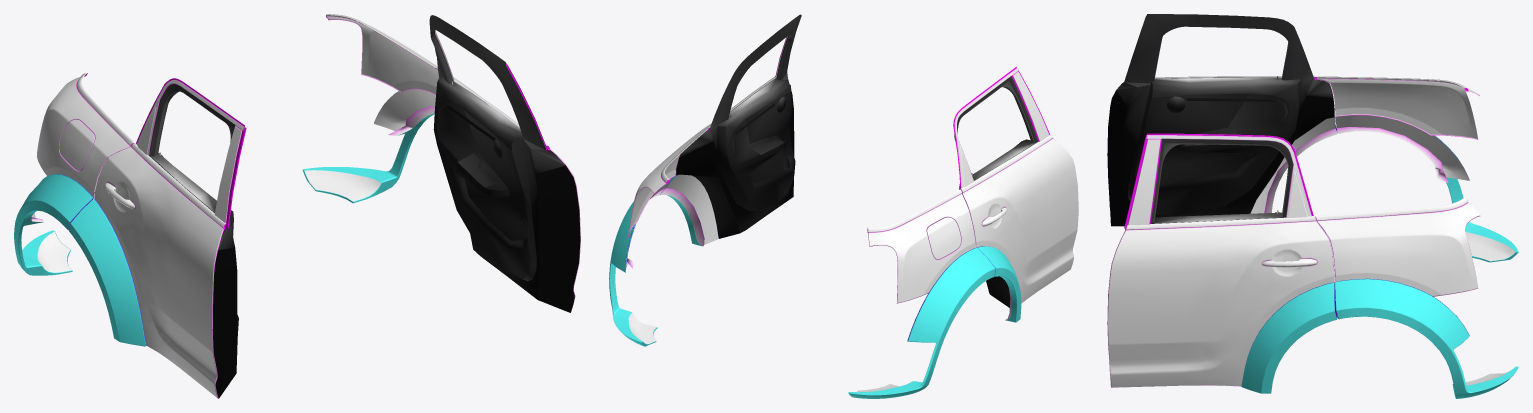
Rendered from Car_Mini_CountrymanJCW_2017_FendersR_SetB_AltB.fbx.
3 renders of one model, left to right at view 1: azimuth 30°, elevation 25°; view 2: azimuth 150°, elevation 25°; view 3: azimuth 270°, elevation 25°, orthographic. The views are drawn at different scales.
Visible parts, largest first — view 1: FendersR 6; view 2: FendersR 6; view 3: FendersR 6.
Part boxes in pixels (x1=…): FendersR 6: x1=14, y1=14, x2=580, y2=398; FendersR 6: x1=609, y1=14, x2=1078, y2=398; FendersR 6: x1=1107, y1=14, x2=1518, y2=398.
Size of the model in its own units: 1.99 by 1.21 by 1.83.
